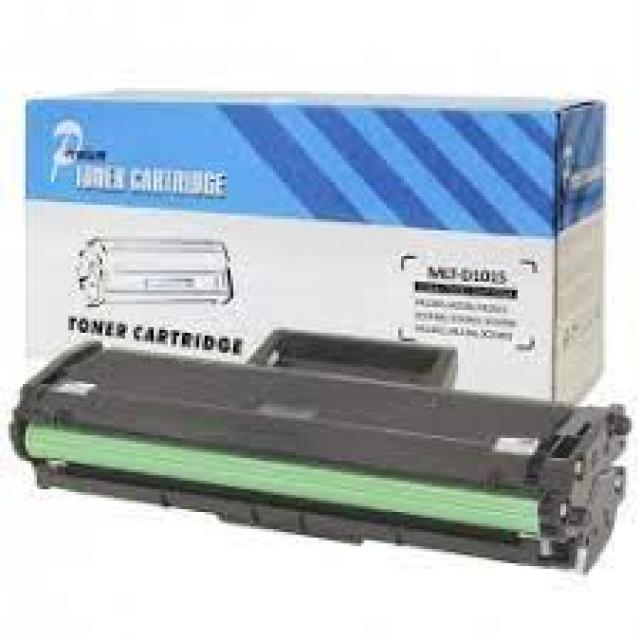printer: (7, 327, 634, 577)
